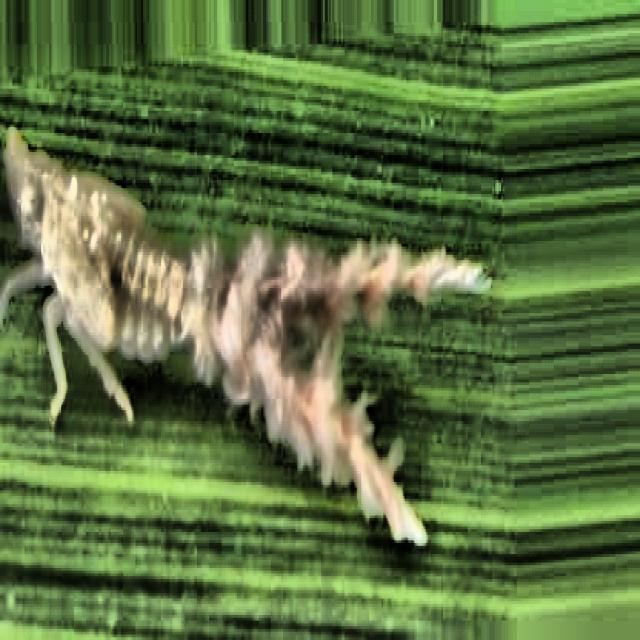Pyrilla-perpusilla: (0, 129, 492, 550)
